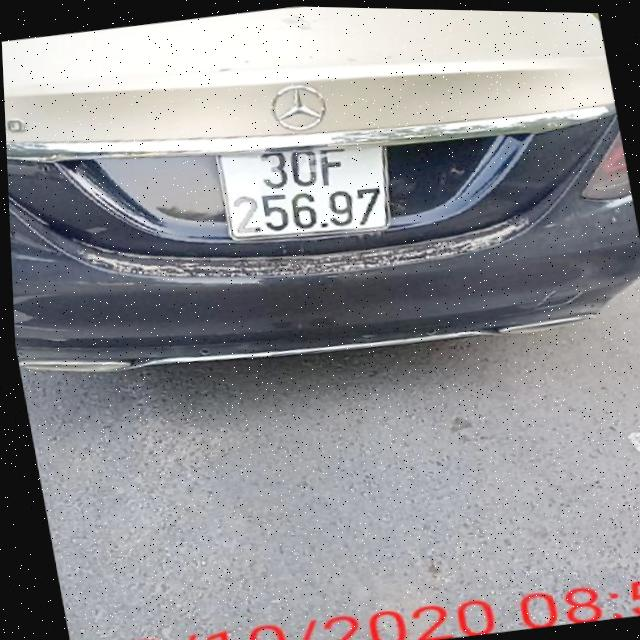car: (0, 0, 640, 415)
plate: (204, 120, 404, 259)
